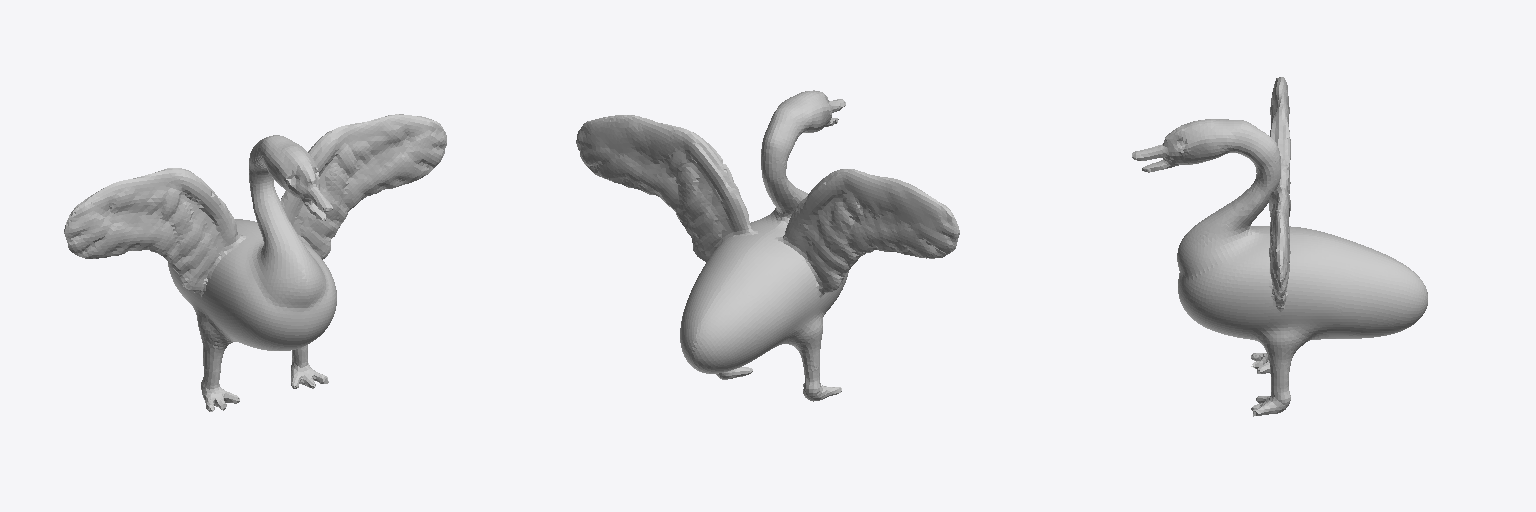
File: swanRetopo.obj
3 views of the same model, side by side, from view 1: azimuth 30°, elevation 25°; view 2: azimuth 150°, elevation 25°; view 3: azimuth 270°, elevation 25° (orthographic).
Bounding box in the file's own units: 6.41 × 4.32 × 4.3.